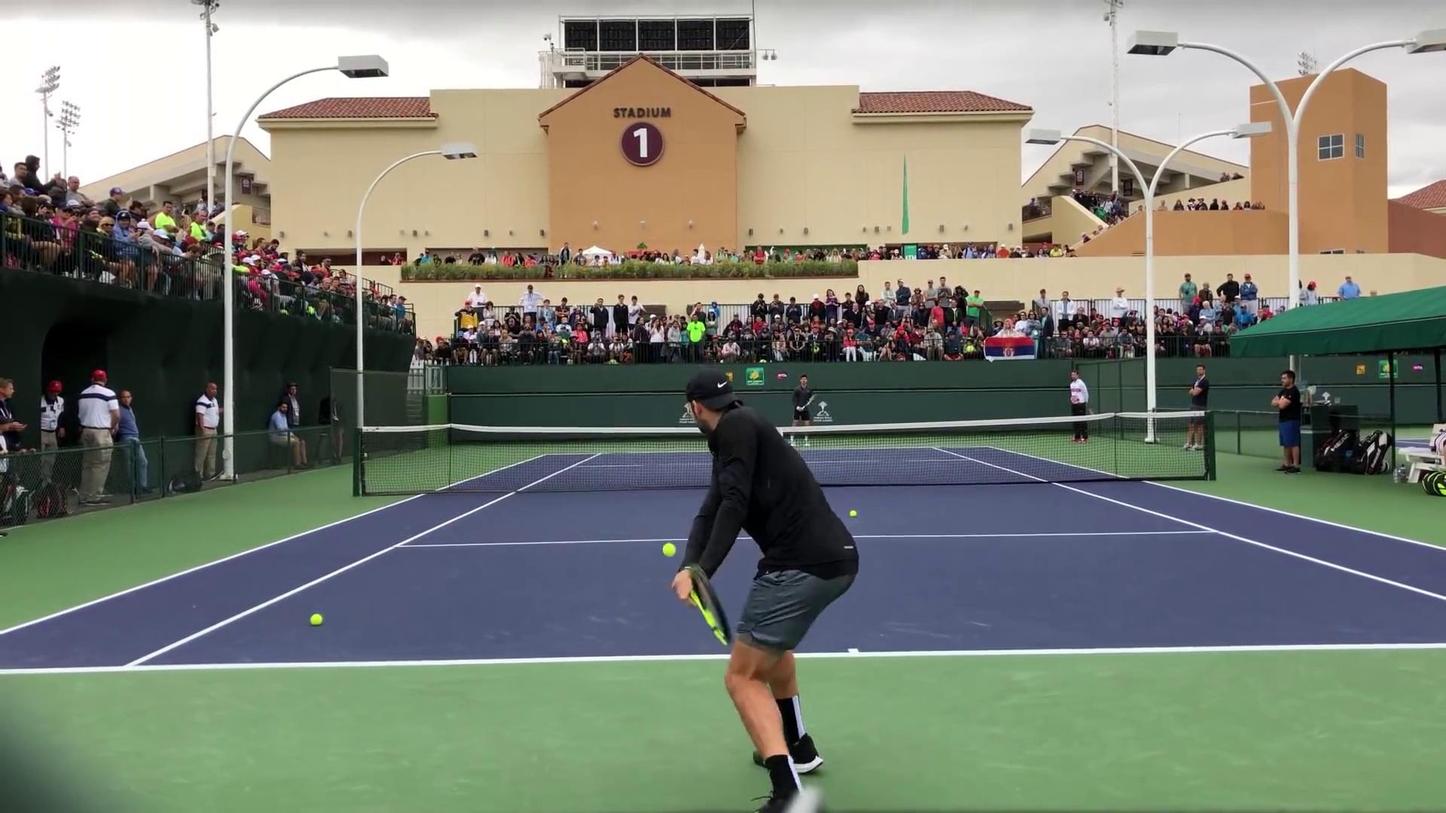ball: (661, 542, 677, 557), (307, 614, 323, 626), (848, 510, 857, 517)
